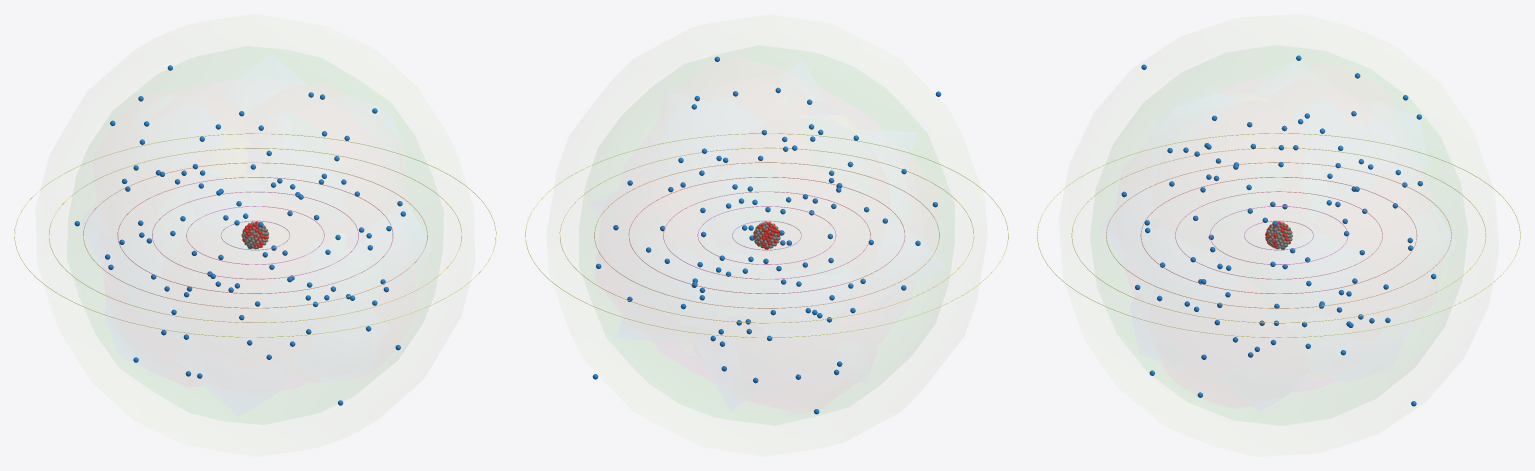
The picture shows the model from 3 angles, left to right: view 1: azimuth 30°, elevation 25°; view 2: azimuth 150°, elevation 25°; view 3: azimuth 270°, elevation 25°; orthographic projection.
Visible parts, largest first — view 1: Nivel_n7, Nivel_n6, Nivel_n5, Nivel_n4, Nivel_n3; view 2: Nivel_n7, Nivel_n6, Nivel_n5, Nivel_n4, Nivel_n3; view 3: Nivel_n7, Nivel_n6, Nivel_n5, Nivel_n4, Nivel_n3.
Part boxes in pixels (x1,y1,x2,y2): Nivel_n7: (14, 133, 496, 337); Nivel_n6: (49, 148, 461, 322); Nivel_n5: (83, 162, 427, 308); Nivel_n4: (117, 177, 393, 293); Nivel_n3: (152, 191, 358, 279); Nivel_n7: (525, 133, 1008, 337); Nivel_n6: (559, 147, 974, 323); Nivel_n5: (594, 162, 939, 308); Nivel_n4: (628, 177, 905, 293); Nivel_n3: (663, 191, 870, 279); Nivel_n7: (1037, 133, 1520, 337); Nivel_n6: (1071, 147, 1486, 323); Nivel_n5: (1106, 162, 1451, 308); Nivel_n4: (1140, 177, 1417, 293); Nivel_n3: (1175, 191, 1382, 279).
Bounding box in the file's own units: 2.1 × 1.92 × 2.1.
